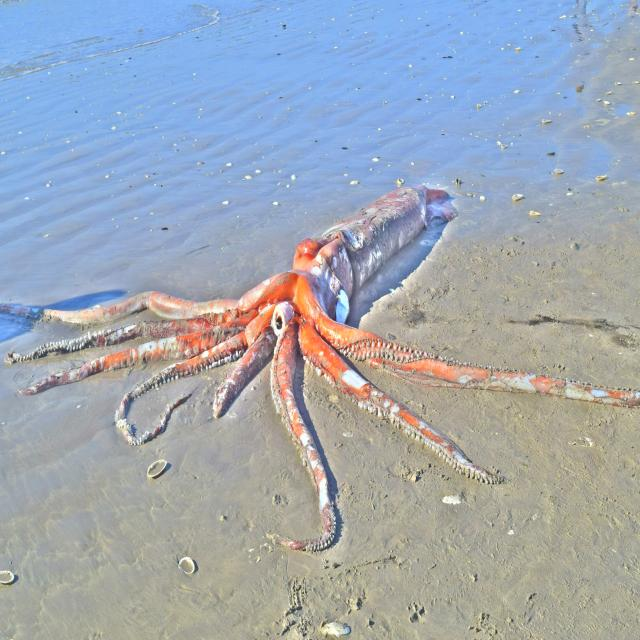squid: (6, 185, 640, 550)
